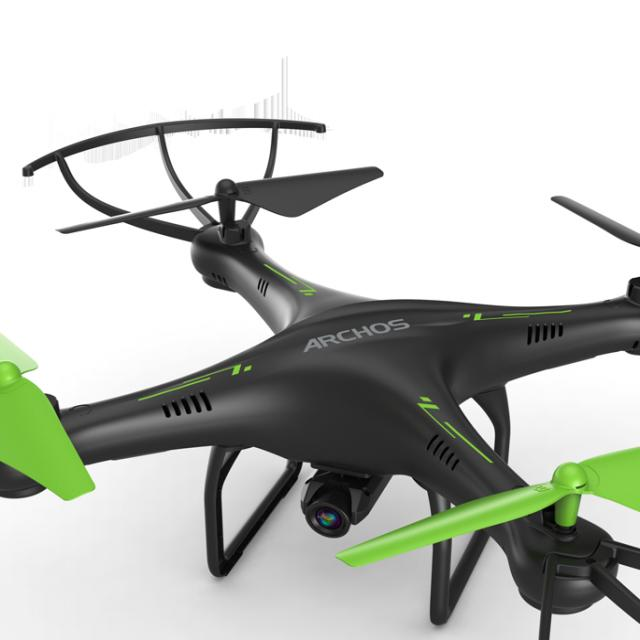drone: (0, 109, 640, 640)
